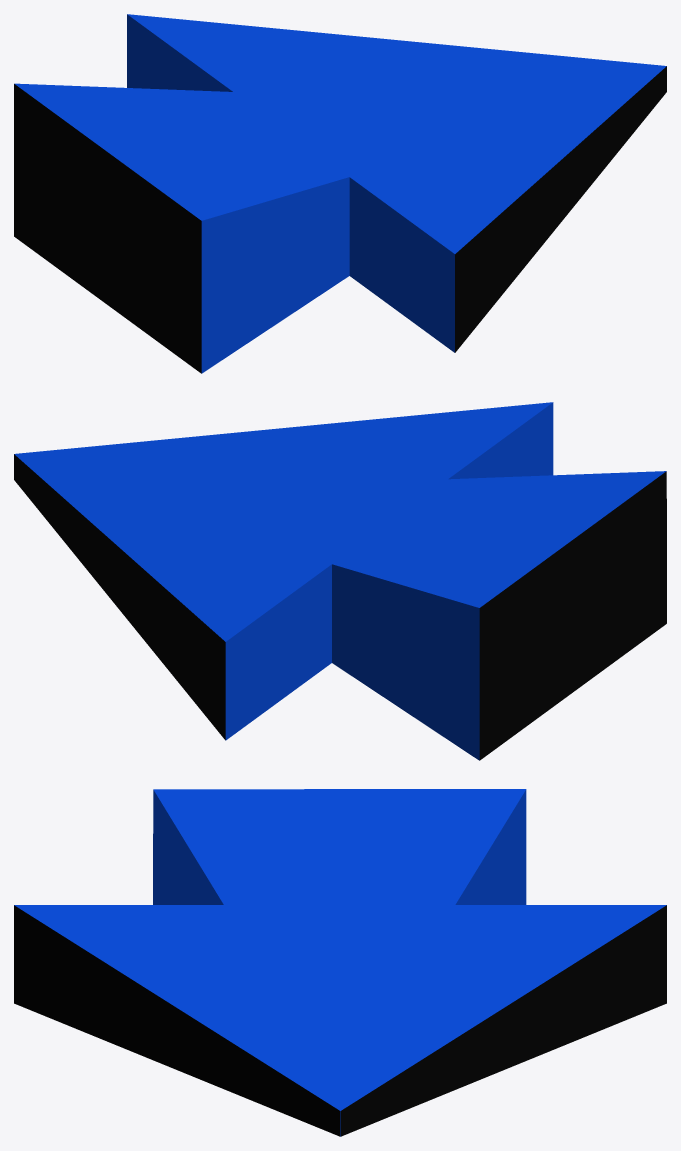
File: asset.glb
3 views of the same model, one above another, from view 1: azimuth 30°, elevation 25°; view 2: azimuth 150°, elevation 25°; view 3: azimuth 270°, elevation 25° (orthographic).
Parts seen in each view (by area): view 1: Cube; view 2: Cube; view 3: Cube.
Boxes of the visible parts, x1,y1,x2,y2 form: Cube: (14, 14, 666, 373); Cube: (14, 402, 666, 760); Cube: (14, 789, 666, 1136).
Bounding box in the file's own units: 1.16 × 0.3022 × 1.18.
